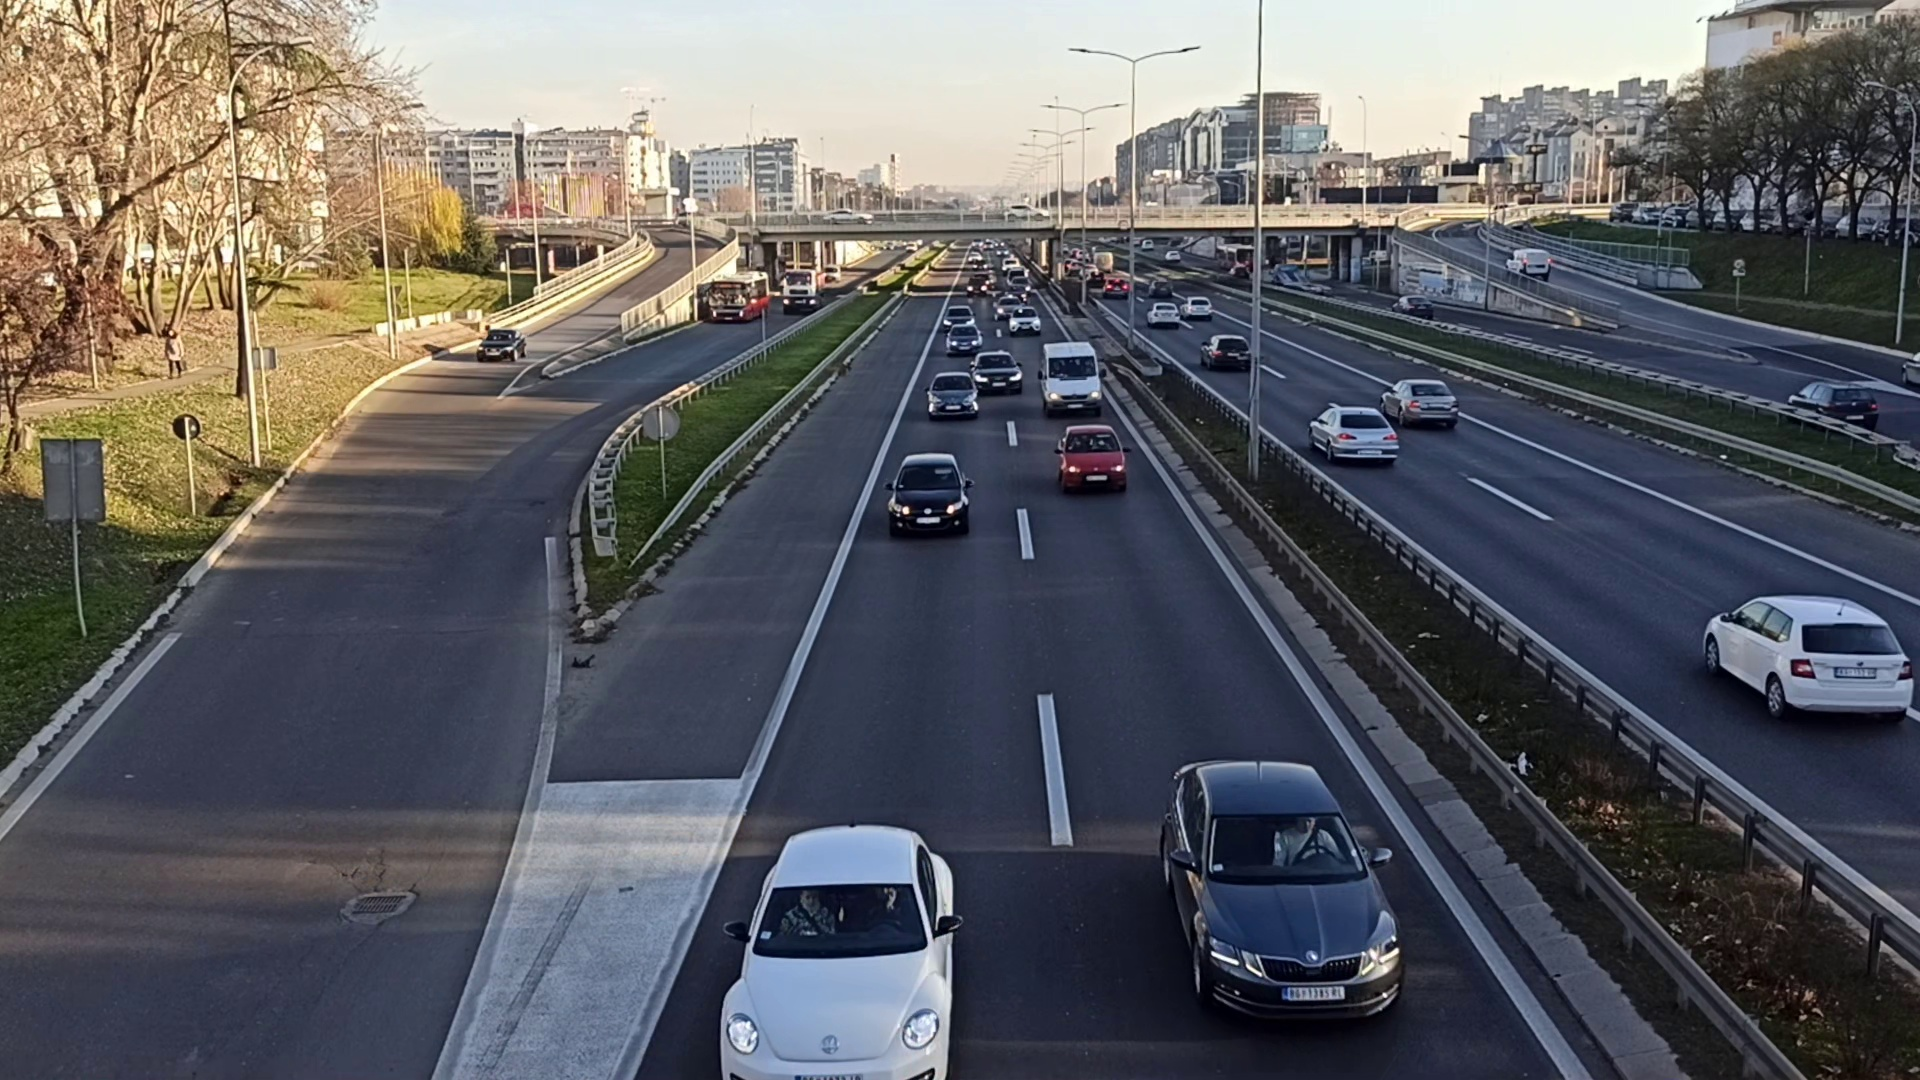bus: (709, 274, 767, 320)
car: (1145, 746, 1412, 1030), (705, 808, 972, 1080), (1695, 589, 1915, 728), (878, 444, 984, 551), (1303, 404, 1396, 465), (1050, 425, 1127, 491), (1375, 377, 1458, 436), (971, 349, 1025, 394), (924, 375, 978, 417), (473, 327, 529, 367)
truck: (781, 266, 829, 313)
van: (1035, 342, 1102, 415)
